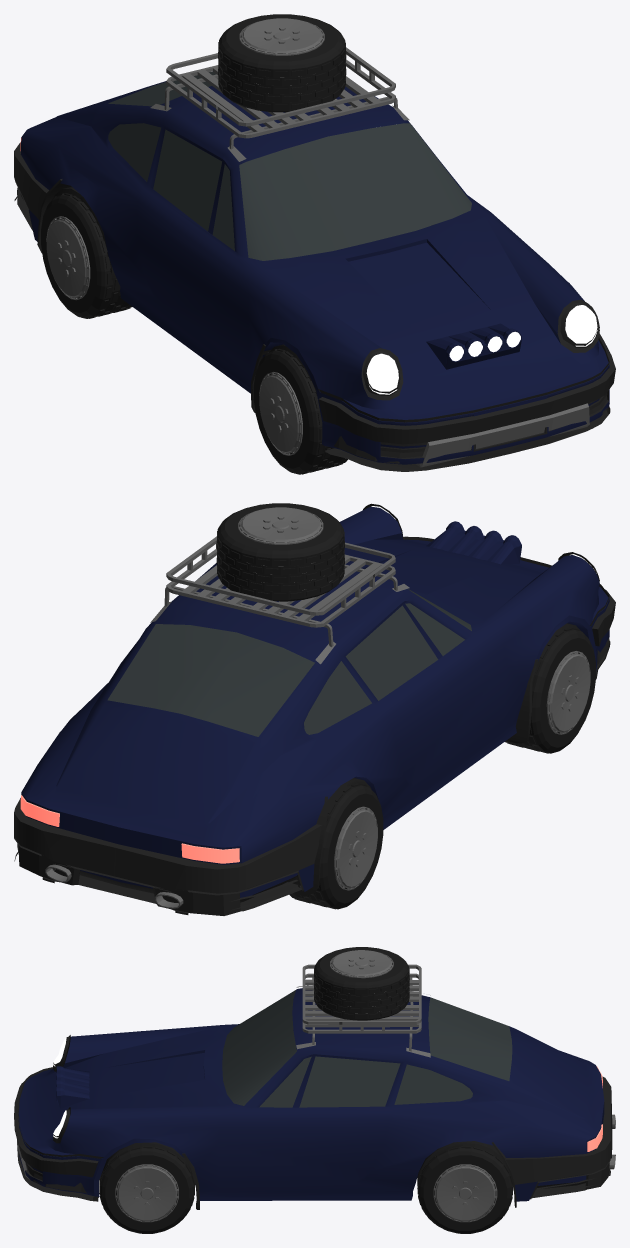
File: car_911.glb
The picture shows the model from 3 angles, top to bottom: view 1: azimuth 30°, elevation 25°; view 2: azimuth 150°, elevation 25°; view 3: azimuth 270°, elevation 25°; orthographic projection. The views are drawn at different scales.
Visible parts, largest first — view 1: Body, Body.002, Adventure_Pack, Adventure_Wild, Sport_Pack, Classic_Pack; view 2: Body, Body.002, Adventure_Wild, Adventure_Pack, Sport_Pack, Back_Lights, Classic_Pack; view 3: Body, Body.002, Adventure_Pack, Adventure_Wild, Sport_Pack, Classic_Pack.
Boxes of the visible parts, left/top/right/bottom form: Body: left=14, top=71, right=609, bottom=422; Body.002: left=108, top=72, right=471, bottom=260; Adventure_Pack: left=37, top=179, right=609, bottom=474; Adventure_Wild: left=150, top=14, right=521, bottom=369; Sport_Pack: left=14, top=176, right=610, bottom=471; Classic_Pack: left=318, top=329, right=615, bottom=448; Body: left=14, top=506, right=609, bottom=897; Body.002: left=107, top=588, right=471, bottom=736; Adventure_Wild: left=150, top=503, right=521, bottom=664; Adventure_Pack: left=59, top=503, right=609, bottom=909; Sport_Pack: left=14, top=559, right=610, bottom=915; Back_Lights: left=20, top=795, right=239, bottom=863; Classic_Pack: left=79, top=563, right=615, bottom=902; Body: left=18, top=988, right=612, bottom=1200; Body.002: left=222, top=989, right=512, bottom=1107; Adventure_Pack: left=17, top=1035, right=516, bottom=1233; Adventure_Wild: left=56, top=947, right=430, bottom=1108; Sport_Pack: left=17, top=1038, right=615, bottom=1201; Classic_Pack: left=14, top=1044, right=585, bottom=1189.
Size of the model in its own units: 2.03 by 1.97 by 4.83.
